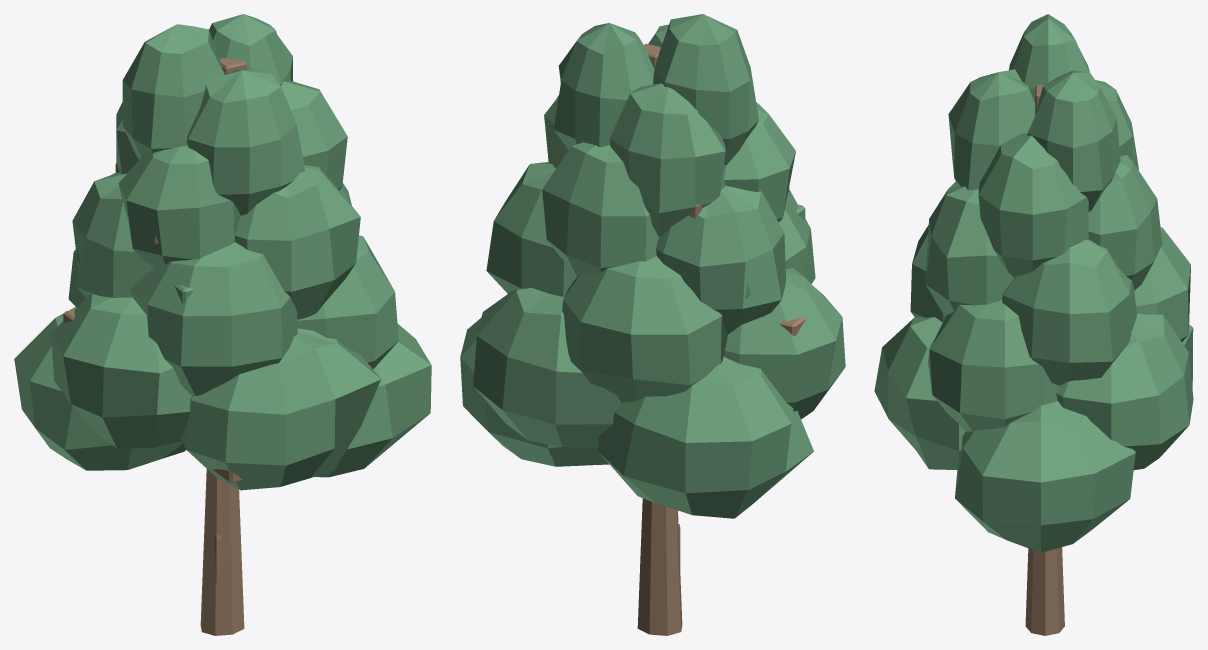
File: b08_blue_spruce.glb
The picture shows the model from 3 angles, left to right: view 1: azimuth 30°, elevation 25°; view 2: azimuth 150°, elevation 25°; view 3: azimuth 270°, elevation 25°; orthographic projection. The views are drawn at different scales.
Parts seen in each view (by area): view 1: b08_blue_spruce; view 2: b08_blue_spruce; view 3: b08_blue_spruce.
Part boxes in pixels (x1=…): b08_blue_spruce: x1=14, y1=14, x2=431, y2=635; b08_blue_spruce: x1=460, y1=14, x2=845, y2=635; b08_blue_spruce: x1=874, y1=14, x2=1193, y2=635.
Bounding box in the file's own units: 3.39 × 5.55 × 2.73.
